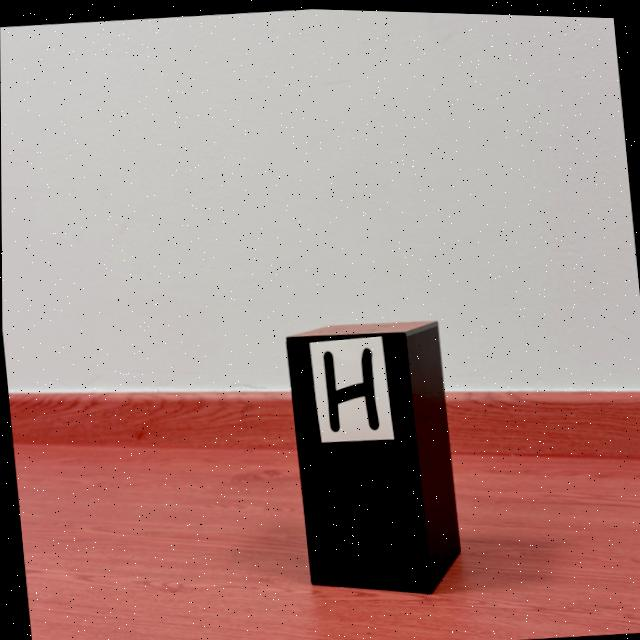H: (322, 345, 378, 429)
